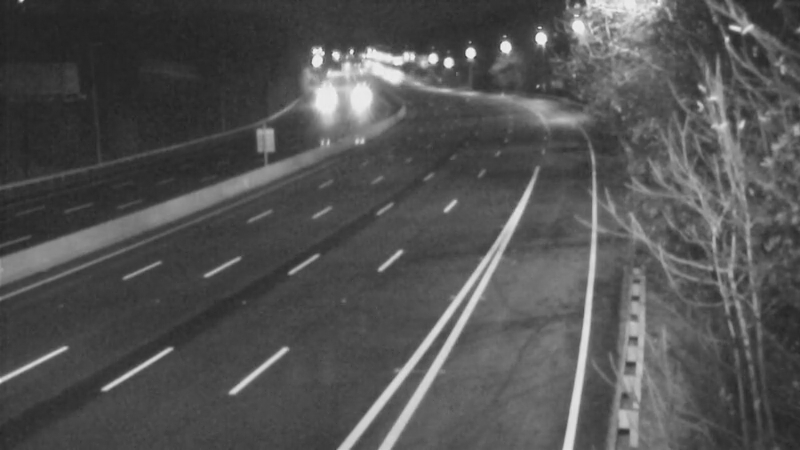vehicle: (369, 50, 419, 100), (305, 74, 355, 124), (332, 72, 382, 122)
